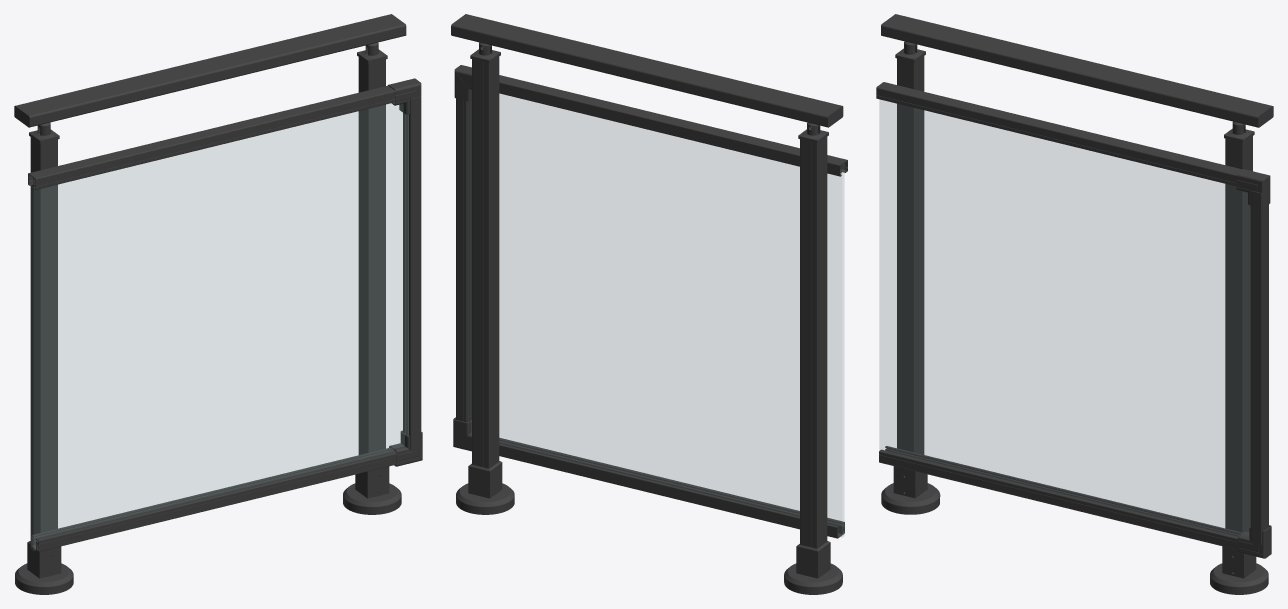
Rendered from end piece.glb.
3 renders of one model, left to right at view 1: azimuth 30°, elevation 25°; view 2: azimuth 150°, elevation 25°; view 3: azimuth 330°, elevation 25°, orthographic.
Size of the model in its own units: 0.00878 by 0.0102 by 0.00114.
